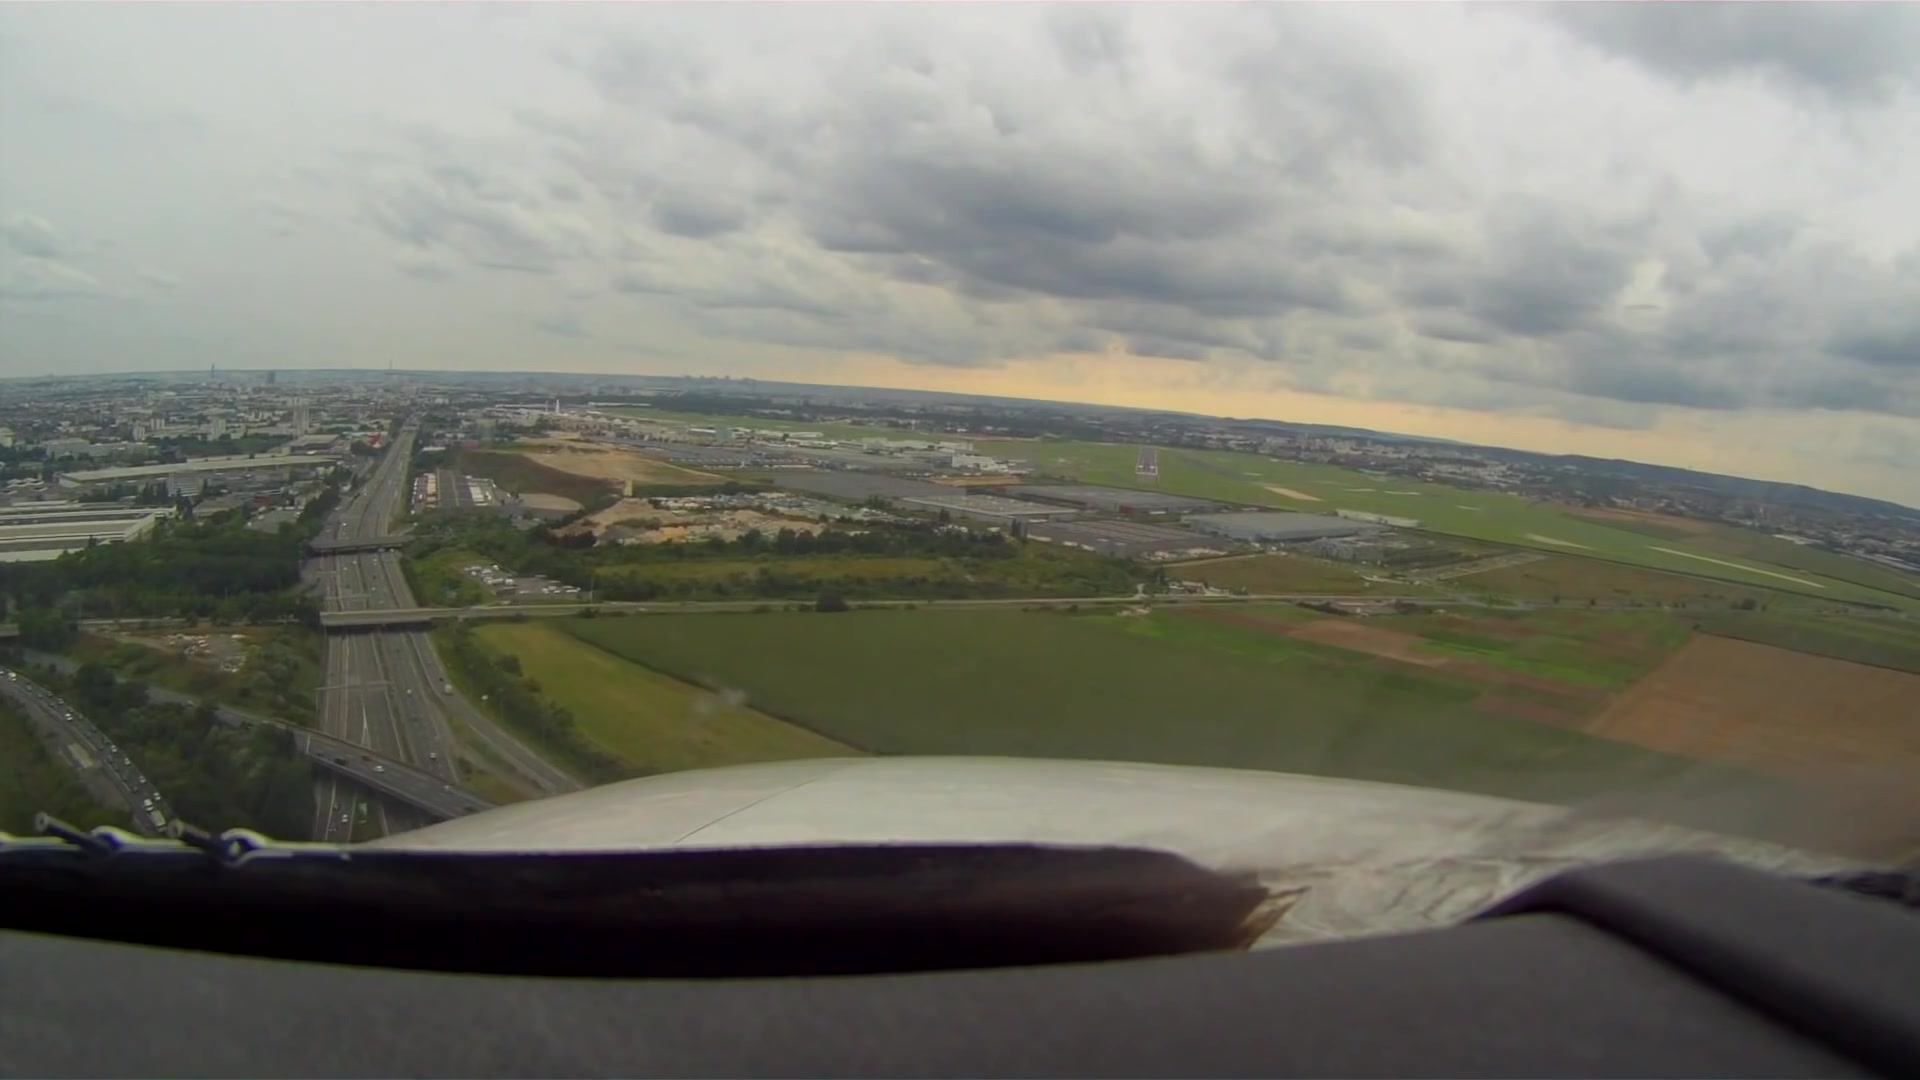runway: (1133, 444, 1158, 477)
